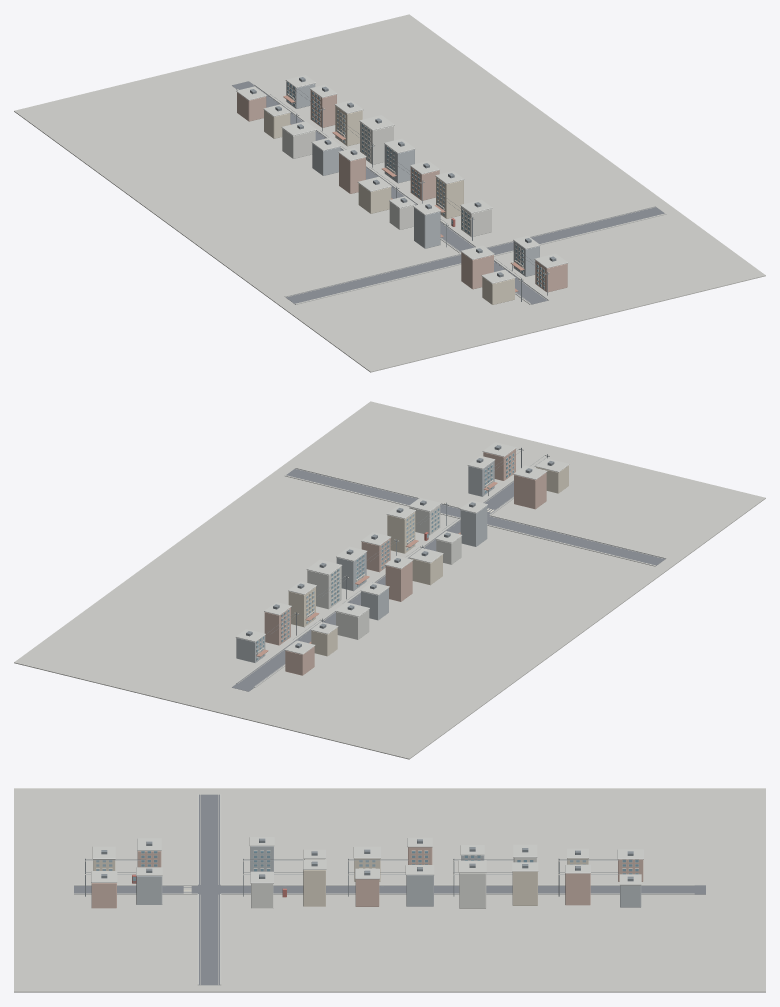
Rendered from city_day_junction.glb.
3 views of the same model, one above another, from view 1: azimuth 30°, elevation 25°; view 2: azimuth 150°, elevation 25°; view 3: azimuth 270°, elevation 25° (orthographic). The views are drawn at different scales.
Parts seen in each view (by area): view 1: Static.Pavement, Static.Concrete, Static.Wall.peach, Static.Wall.cream, Static.Wall.silver, Static.Wall.ivory, Branch.left.Asphalt, Branch.right.Asphalt, Static.Frame, Static.Steel, Branch.front.Asphalt, Static.Window (+1 smaller); view 2: Static.Pavement, Static.Concrete, Static.Wall.peach, Static.Wall.silver, Static.Wall.cream, Static.Wall.ivory, Branch.left.Asphalt, Branch.front.Asphalt, Branch.right.Asphalt, Static.Frame, Static.Steel, Static.Window (+1 smaller); view 3: Static.Pavement, Static.Concrete, Static.Wall.peach, Static.Wall.silver, Branch.front.Asphalt, Static.Wall.cream, Branch.right.Asphalt, Branch.left.Asphalt, Static.Steel, Static.Wall.ivory, Static.Asphalt, Static.Frame (+4 smaller).
Boxes of the visible parts, x1,y1,x2,y2 form: Static.Pavement: (14, 14, 765, 372); Static.Concrete: (236, 75, 567, 304); Static.Wall.peach: (237, 90, 567, 292); Static.Wall.cream: (264, 106, 514, 304); Static.Wall.silver: (286, 81, 539, 276); Static.Wall.ivory: (282, 122, 491, 237); Branch.left.Asphalt: (285, 254, 461, 304); Branch.right.Asphalt: (487, 206, 664, 254); Static.Frame: (287, 82, 549, 289); Static.Steel: (250, 77, 556, 301); Branch.front.Asphalt: (232, 81, 475, 252); Static.Window: (287, 82, 544, 288); Static.Pavement: (14, 401, 765, 759); Static.Concrete: (235, 442, 569, 654); Static.Wall.peach: (264, 449, 546, 675); Static.Wall.silver: (236, 461, 494, 662); Static.Wall.cream: (288, 465, 568, 656); Static.Wall.ivory: (307, 505, 461, 639); Branch.left.Asphalt: (487, 516, 665, 565); Branch.front.Asphalt: (232, 520, 460, 691); Branch.right.Asphalt: (286, 468, 460, 517); Static.Frame: (256, 448, 549, 660); Static.Steel: (246, 445, 554, 648); Static.Window: (256, 453, 513, 660); Static.Pavement: (14, 788, 765, 992); Static.Concrete: (74, 837, 643, 894); Static.Wall.peach: (91, 847, 643, 908); Static.Wall.silver: (136, 846, 641, 907); Branch.front.Asphalt: (221, 885, 705, 894); Static.Wall.cream: (93, 858, 588, 906); Branch.right.Asphalt: (199, 894, 219, 985); Branch.left.Asphalt: (199, 794, 219, 884); Static.Steel: (85, 838, 633, 896); Static.Wall.ivory: (251, 857, 536, 908); Static.Asphalt: (74, 885, 221, 894); Static.Frame: (85, 850, 638, 878).
Bounding box in the file's own units: 64 × 6.07 × 100.
